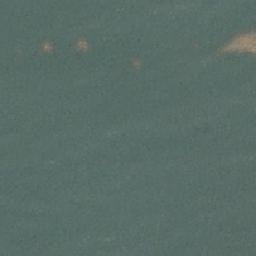debris: (224, 33, 256, 52), (77, 37, 91, 49), (41, 42, 51, 53)
